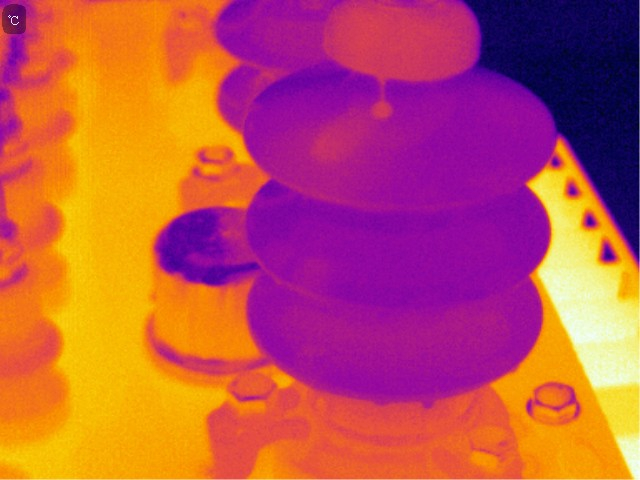Oil: (322, 1, 478, 81), (311, 118, 360, 166), (371, 98, 399, 122), (418, 394, 437, 413), (371, 392, 391, 408), (375, 83, 391, 99)
